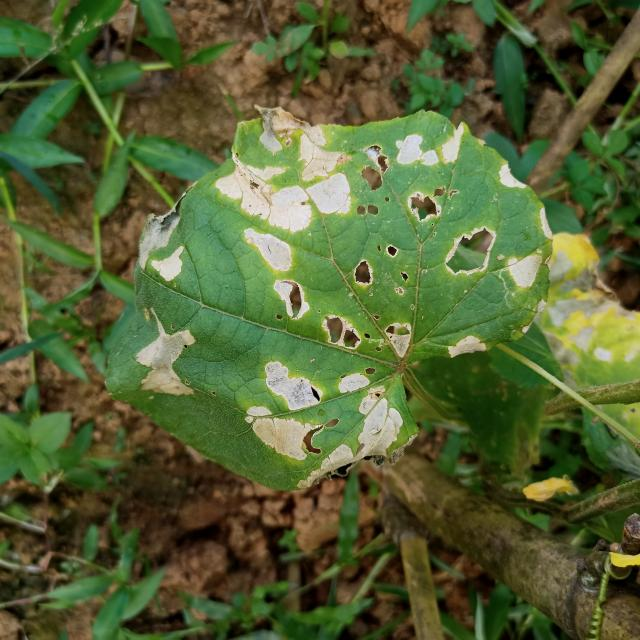disease_cucumber: (120, 110, 523, 491)
